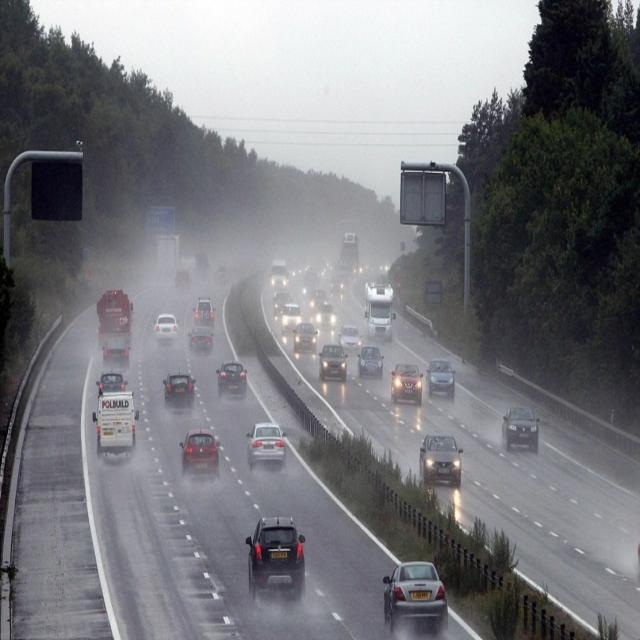bus: (98, 289, 132, 367), (363, 282, 395, 341), (155, 235, 179, 284), (338, 233, 358, 280), (270, 260, 288, 296)
car: (248, 515, 304, 598), (385, 561, 447, 625), (95, 390, 137, 455), (419, 433, 463, 486), (181, 431, 220, 476), (502, 406, 540, 451), (248, 422, 286, 464), (389, 362, 424, 404), (160, 373, 197, 409), (318, 342, 348, 382), (215, 361, 247, 397), (426, 358, 455, 396), (356, 346, 384, 378), (187, 326, 212, 352), (192, 294, 214, 323), (153, 314, 179, 338), (294, 323, 316, 348), (98, 370, 128, 388), (339, 326, 360, 350), (282, 304, 302, 329), (315, 303, 335, 326), (273, 290, 291, 314), (173, 269, 191, 291), (330, 274, 346, 296), (215, 262, 232, 282), (309, 290, 326, 310), (301, 277, 317, 298)
